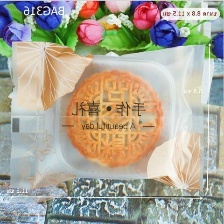snack: (3, 32, 213, 194)
